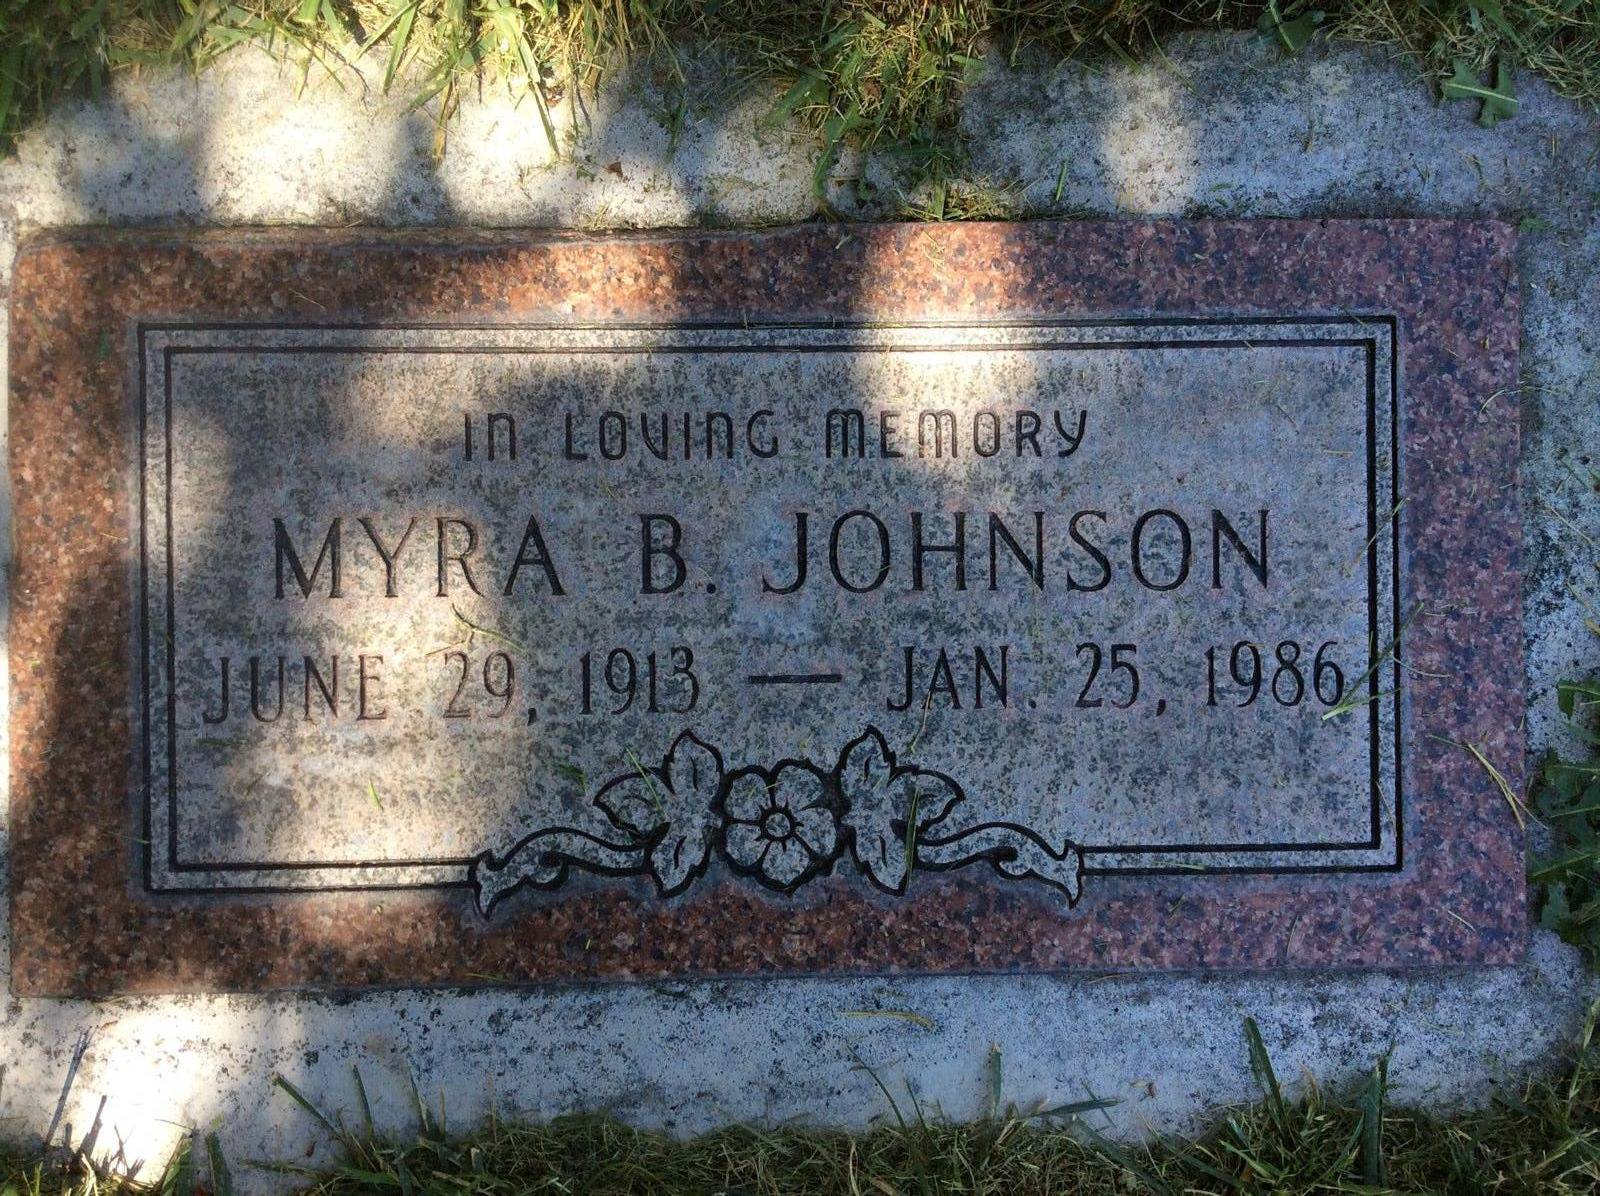flat: (0, 209, 1531, 990)
